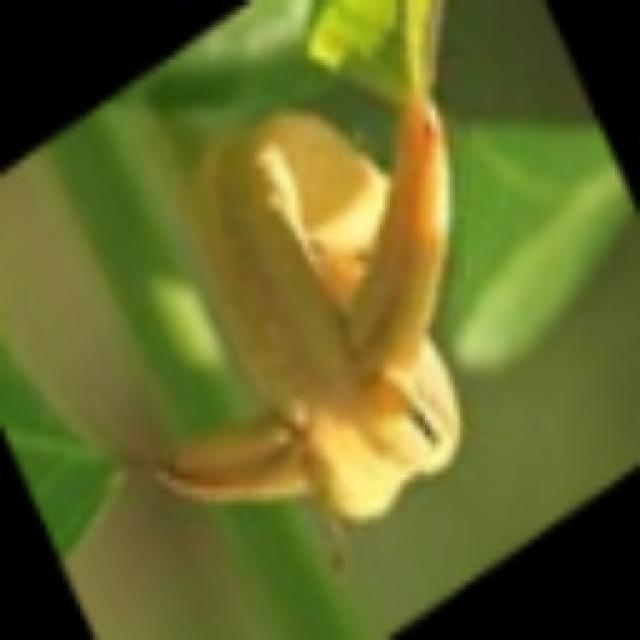Elderberry_rust: (150, 88, 468, 570)
